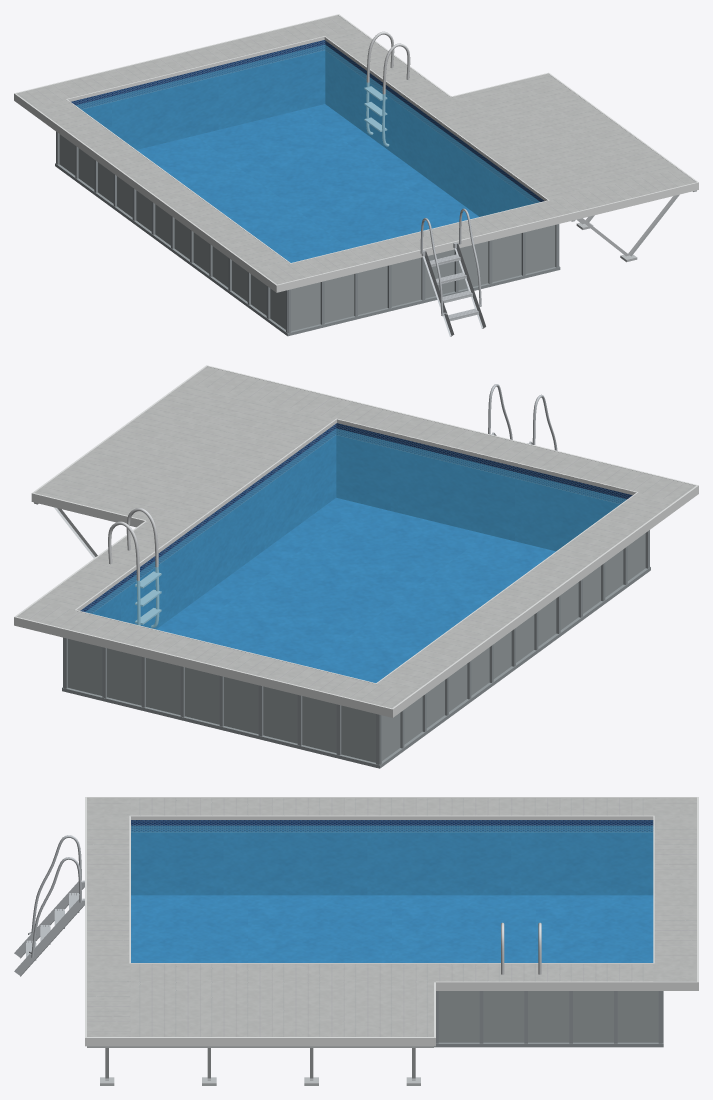
Rendered from kayak-pool-16x24-gray-l-ag-nofence.1716ece850.glb.
3 renders of one model, top to bottom at view 1: azimuth 30°, elevation 25°; view 2: azimuth 150°, elevation 25°; view 3: azimuth 270°, elevation 25°, orthographic. The views are drawn at different scales.
Visible parts, largest first — view 1: water, deck, liner_floor, liner_wall, wall, fascia, upright, ladder, steel, stud; view 2: water, deck, liner_floor, liner_wall, wall, fascia, upright, steel, ladder; view 3: water, deck, liner_wall, liner_floor, fascia, wall, ladder, upright, stud.
Part boxes in pixels (x1=…): water: x1=76, y1=44, x2=539, y2=262; deck: x1=16, y1=15, x2=695, y2=284; liner_floor: x1=137, y1=104, x2=478, y2=262; liner_wall: x1=71, y1=40, x2=544, y2=216; wall: x1=59, y1=134, x2=555, y2=331; fascia: x1=14, y1=14, x2=698, y2=292; upright: x1=55, y1=131, x2=560, y2=336; ladder: x1=420, y1=208, x2=485, y2=336; steel: x1=364, y1=31, x2=410, y2=146; stud: x1=571, y1=190, x2=696, y2=262; water: x1=85, y1=428, x2=626, y2=682; deck: x1=17, y1=366, x2=695, y2=708; liner_floor: x1=156, y1=498, x2=555, y2=682; liner_wall: x1=80, y1=423, x2=632, y2=629; wall: x1=68, y1=533, x2=645, y2=762; fascia: x1=14, y1=365, x2=698, y2=717; upright: x1=62, y1=530, x2=650, y2=768; steel: x1=108, y1=508, x2=161, y2=628; ladder: x1=488, y1=384, x2=557, y2=450; water: x1=131, y1=825, x2=653, y2=962; deck: x1=87, y1=798, x2=696, y2=1036; liner_wall: x1=131, y1=820, x2=653, y2=895; liner_floor: x1=131, y1=895, x2=653, y2=962; fascia: x1=85, y1=797, x2=698, y2=1046; wall: x1=438, y1=991, x2=658, y2=1042; ladder: x1=14, y1=835, x2=84, y2=976; upright: x1=434, y1=991, x2=663, y2=1047; stud: x1=87, y1=1046, x2=433, y2=1085.
Bounding box in the file's own units: 7.93 × 1.9 × 9.52.
Materials: 10 (3 with a texture image).
